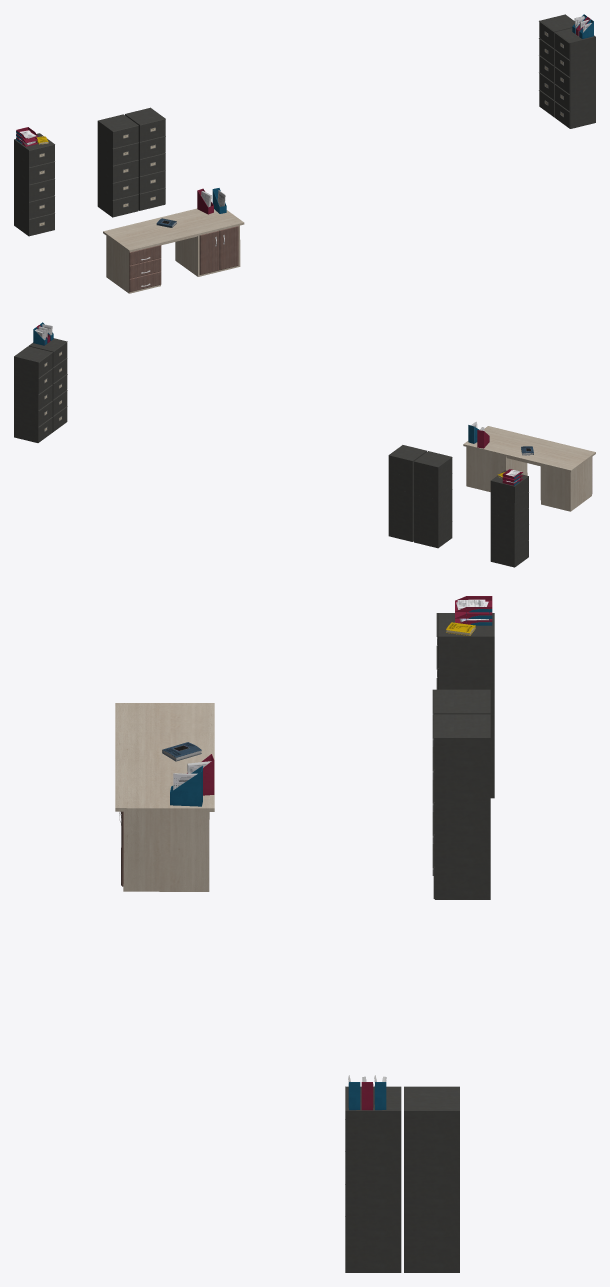
Rendered from sp_int_office.FBX.
3 renders of one model, top to bottom at view 1: azimuth 30°, elevation 25°; view 2: azimuth 150°, elevation 25°; view 3: azimuth 270°, elevation 25°, orthographic. The views are drawn at different scales.
Parts seen in each view (by area): view 1: sp_int_office; view 2: sp_int_office; view 3: sp_int_office.
Boxes of the visible parts, x1,y1,x2,y2 form: sp_int_office: (14,14,595,293); sp_int_office: (14,322,595,567); sp_int_office: (115,596,494,1272).
Size of the model in its own units: 472 by 152 by 84.08.
